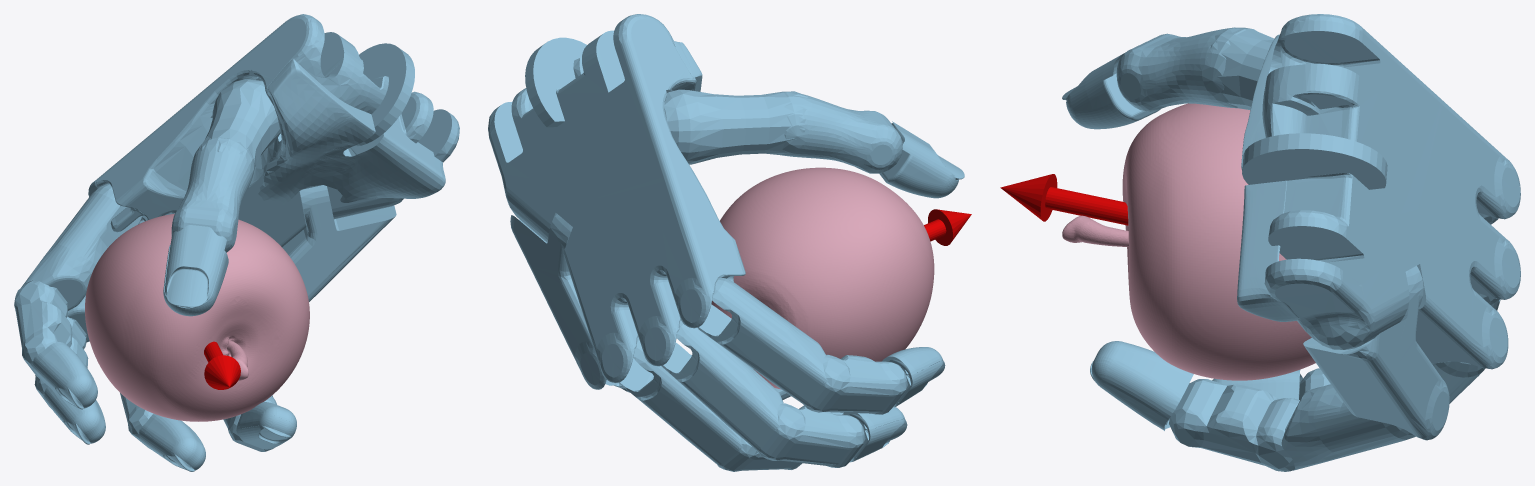
3 renders of one model, left to right at view 1: azimuth 30°, elevation 25°; view 2: azimuth 150°, elevation 25°; view 3: azimuth 270°, elevation 25°, orthographic. The views are drawn at different scales.
Visible parts, largest first — view 1: world, apple.stl; view 2: world, apple.stl; view 3: world, apple.stl.
Boxes of the visible parts, x1,y1,x2,y2 form: world: [14, 14, 459, 471]; apple.stl: [85, 213, 309, 421]; world: [488, 14, 971, 471]; apple.stl: [711, 167, 934, 389]; world: [1000, 14, 1520, 471]; apple.stl: [1062, 103, 1315, 380].
Bounding box in the file's own units: 0.1682 × 0.1541 × 0.1402.
